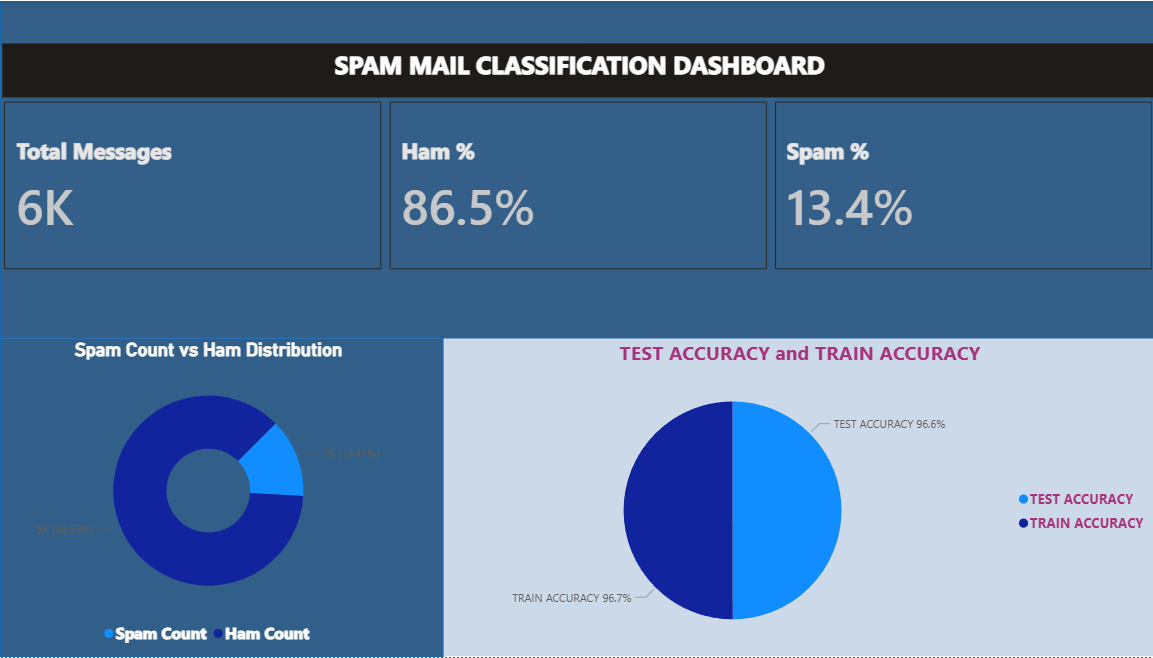

The page's visual inventory and layout, read from the dashboard file:
{"tool":"powerbi","page":{"name":"Page 1","canvas":[1280,720],"ordinal":0},"visuals":[{"type":"shape","box":[9.6,0,1270.7,370.5],"z":0},{"type":"shape","box":[9.6,370.5,487.1,349.9],"z":1},{"type":"donutChart","title":"Spam Count vs Ham Distribution","fields":{"Y":["mail_data (2).Spam Count","mail_data (2).Ham Count"]},"box":[9.6,370.5,458.3,348.5],"z":2},{"type":"textbox","box":[12.3,46.7,1267.9,59],"z":5},{"type":"cardVisual","fields":{"Data":["mail_data (2).Total Messages","mail_data (2).Ham %","mail_data (2).Spam %"]},"box":[9.6,105.7,1270.7,194.9],"z":6},{"type":"pieChart","fields":{"Y":["mail_data (2).TEST ACCURACY","mail_data (2).TRAIN ACCURACY"]},"box":[497,371,783,349],"z":7}]}

Visuals, with their boxes in screenshot pixels (x1, y1, x2, y2), scaled from the page's 1280x720 canvas onto the 1153x658 screenshot:
shape: region(9, 0, 1152, 339)
shape: region(9, 339, 447, 657)
"Spam Count vs Ham Distribution" donutChart: region(9, 339, 421, 657)
textbox: region(11, 43, 1152, 97)
cardVisual - mail_data (2).Total Messages x mail_data (2).Ham %: region(9, 97, 1152, 275)
pieChart - mail_data (2).TEST ACCURACY x mail_data (2).TRAIN ACCURACY: region(448, 339, 1152, 657)
